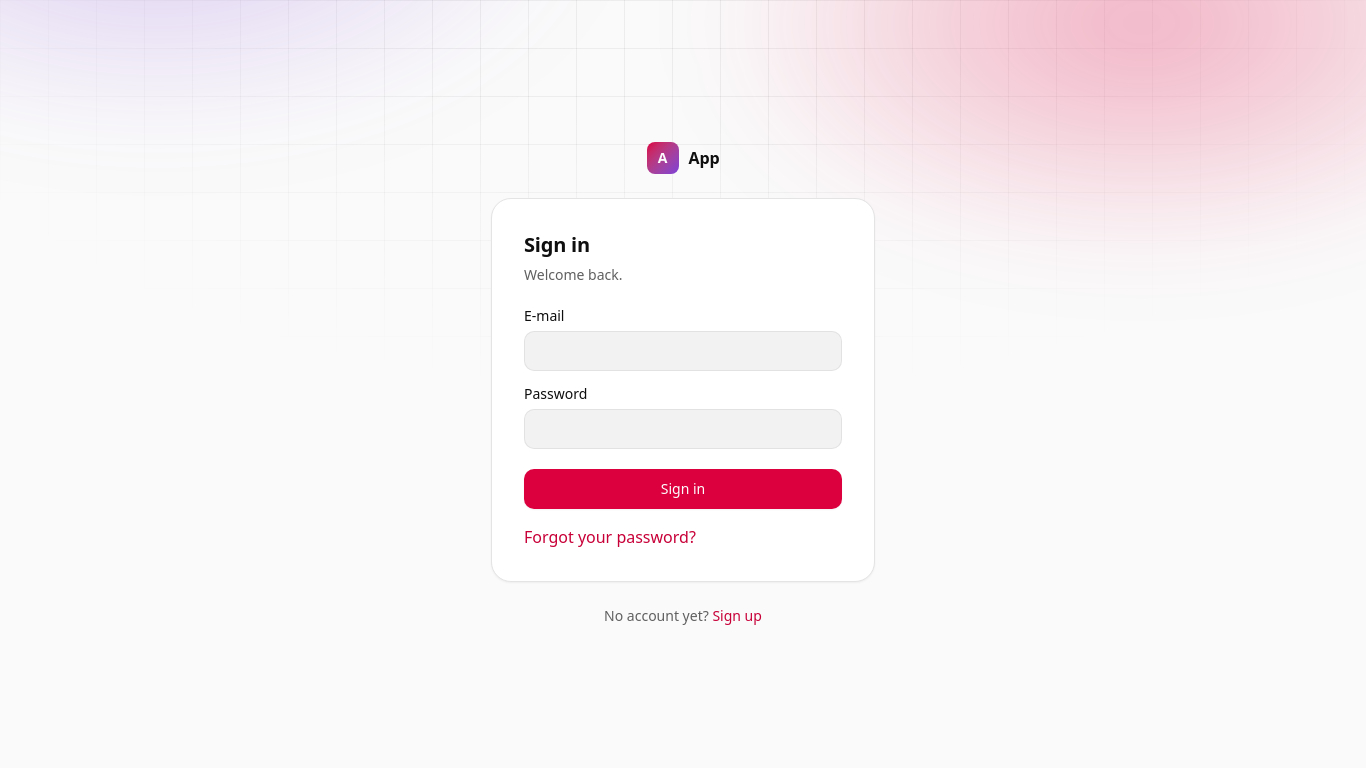
Scenario: SignInForm › says in place that the credentials are wrong
The image size is (1366, 768).
Type "jane@example.com" into the field labelled "E-mail" at (683, 351), box x1=524 y1=331 x2=842 y2=371
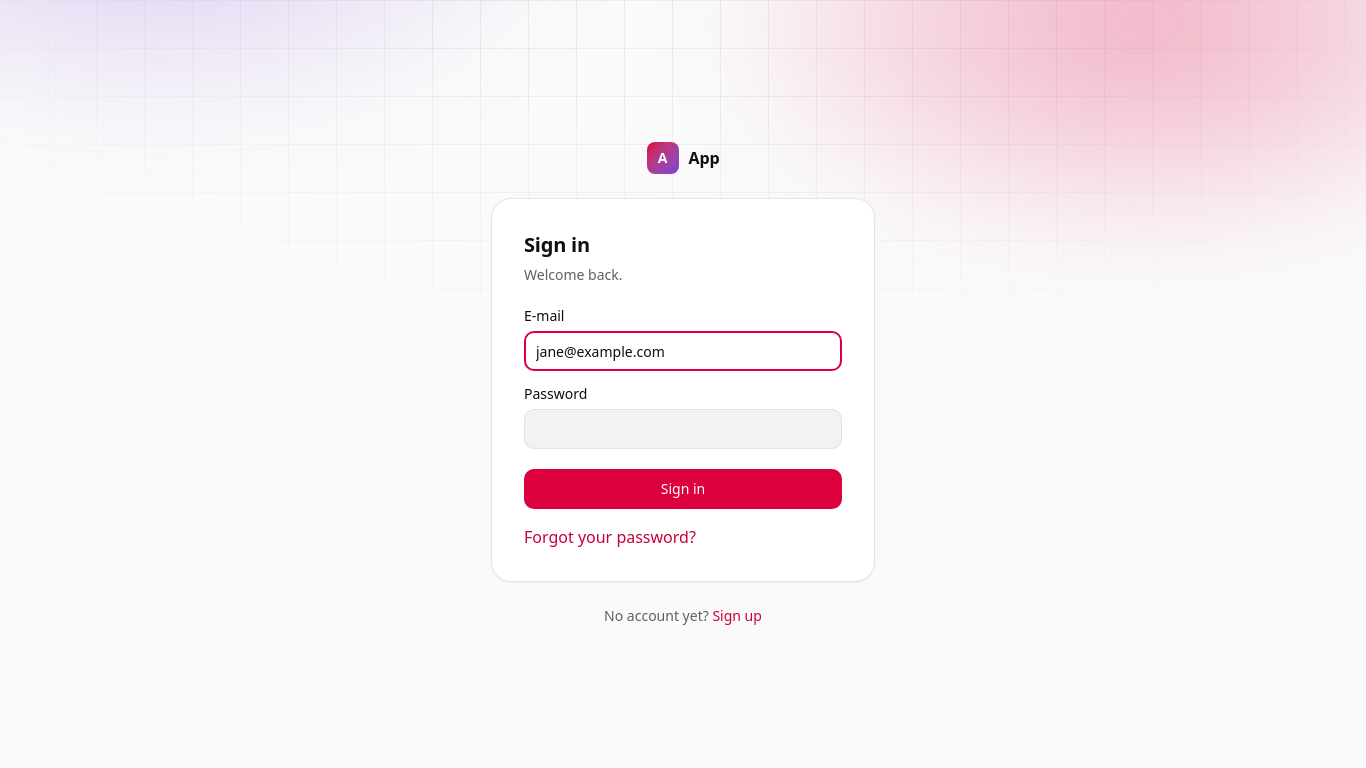
Type "wrong-password" into the password field labelled "Password" at (683, 429), box x1=524 y1=409 x2=842 y2=449
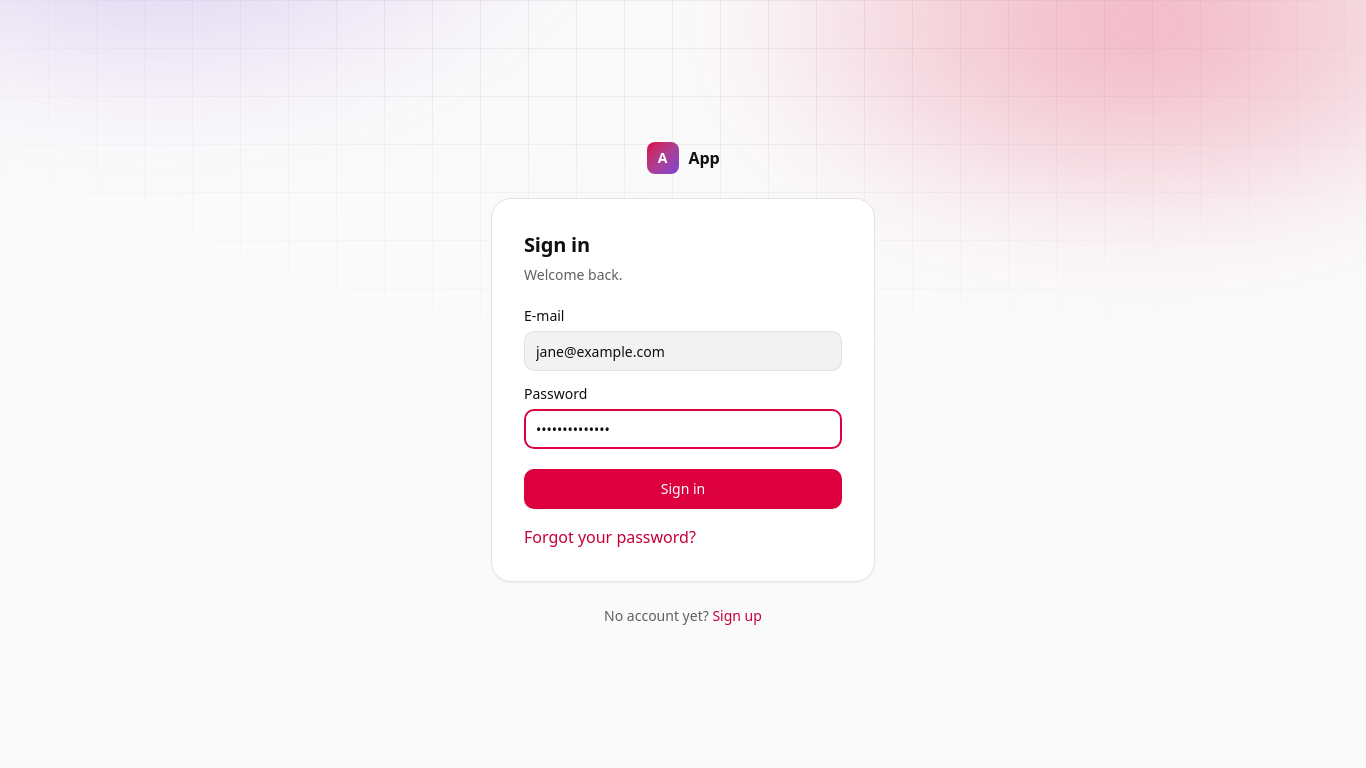
Click the button "Sign in" at (683, 489), box x1=524 y1=469 x2=842 y2=509
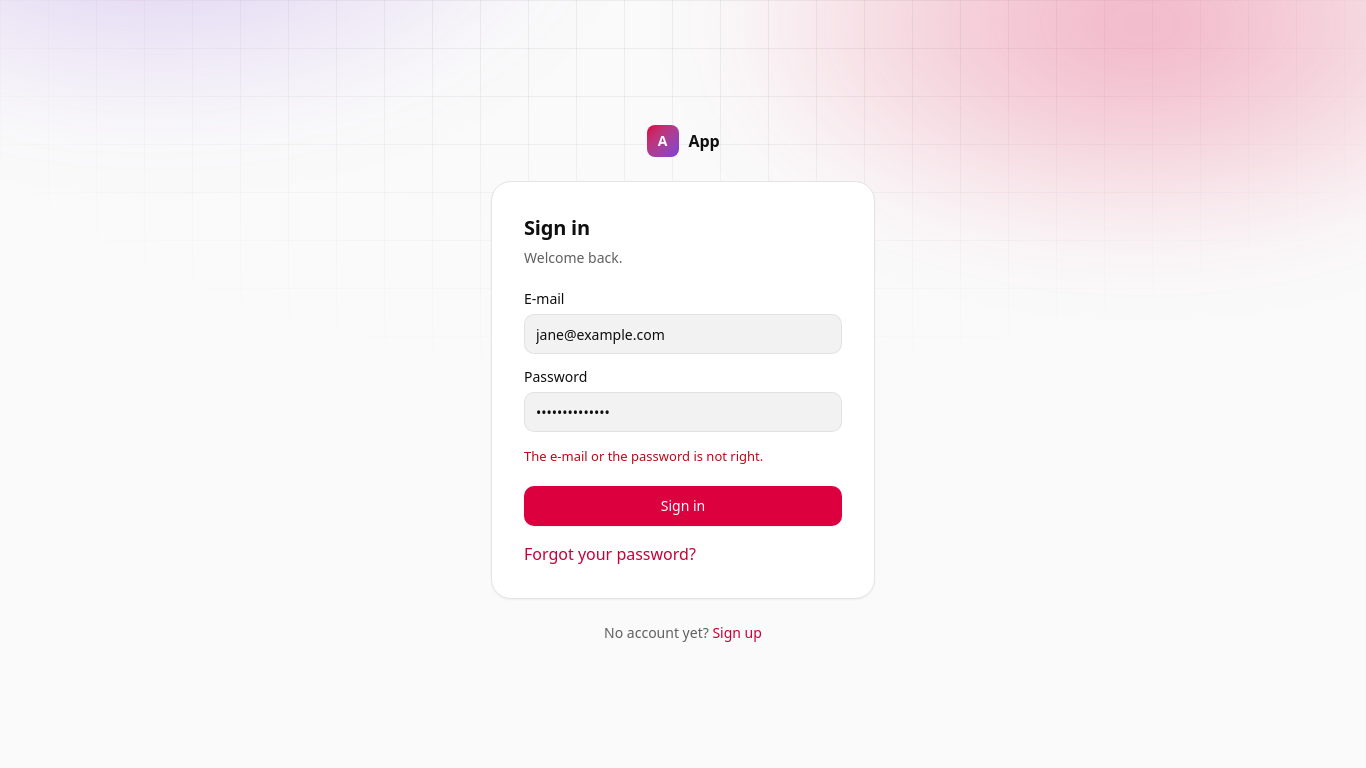
Now the message reads "The e-mail or the password is not right.", box x1=524 y1=447 x2=763 y2=465
